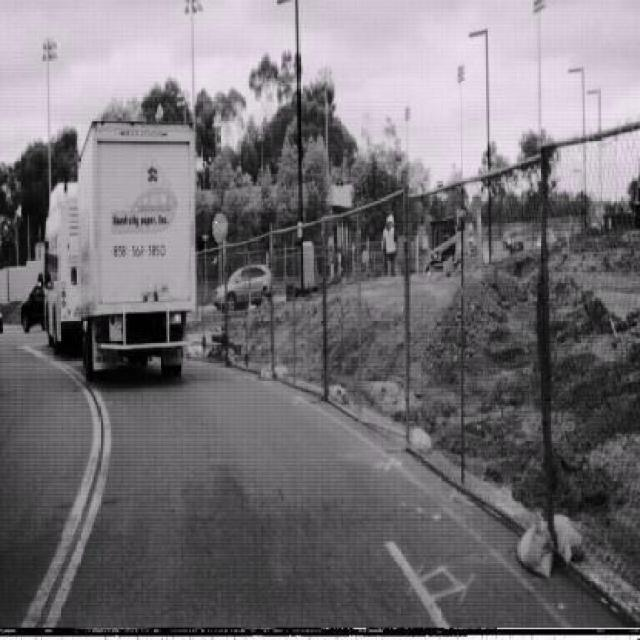stop: (212, 210, 228, 242)
